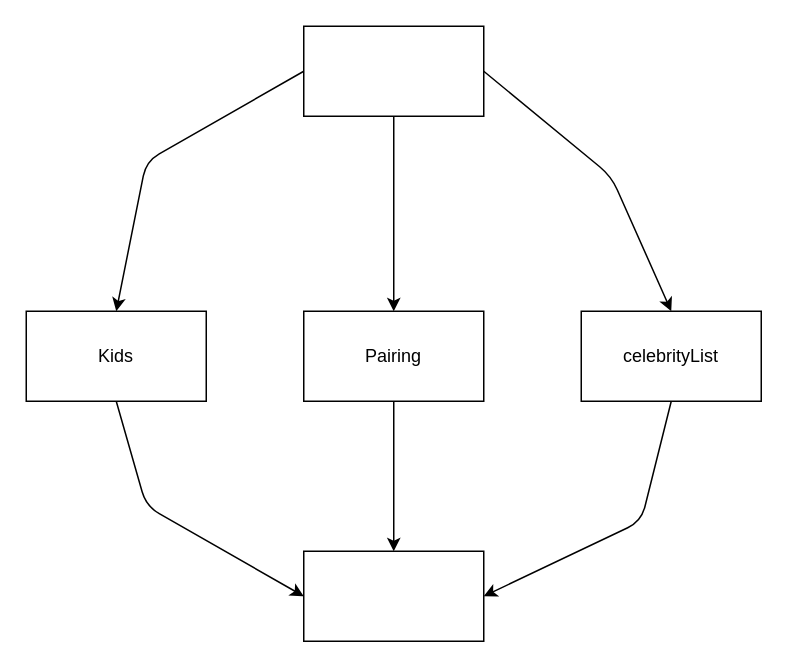
The diagram is 788 pixels wide and 668 high, and some of its shapes have lost their labels. Here are the shapes that lost their labels. From the top down, the centre of each, then its label:
the point at 393,70: database
the point at 393,595: Main
